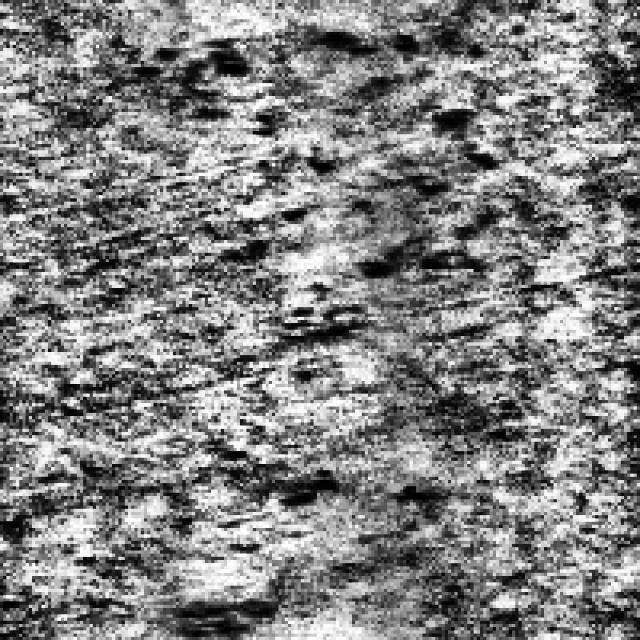Crazing: (131, 28, 493, 340), (167, 461, 426, 637)
